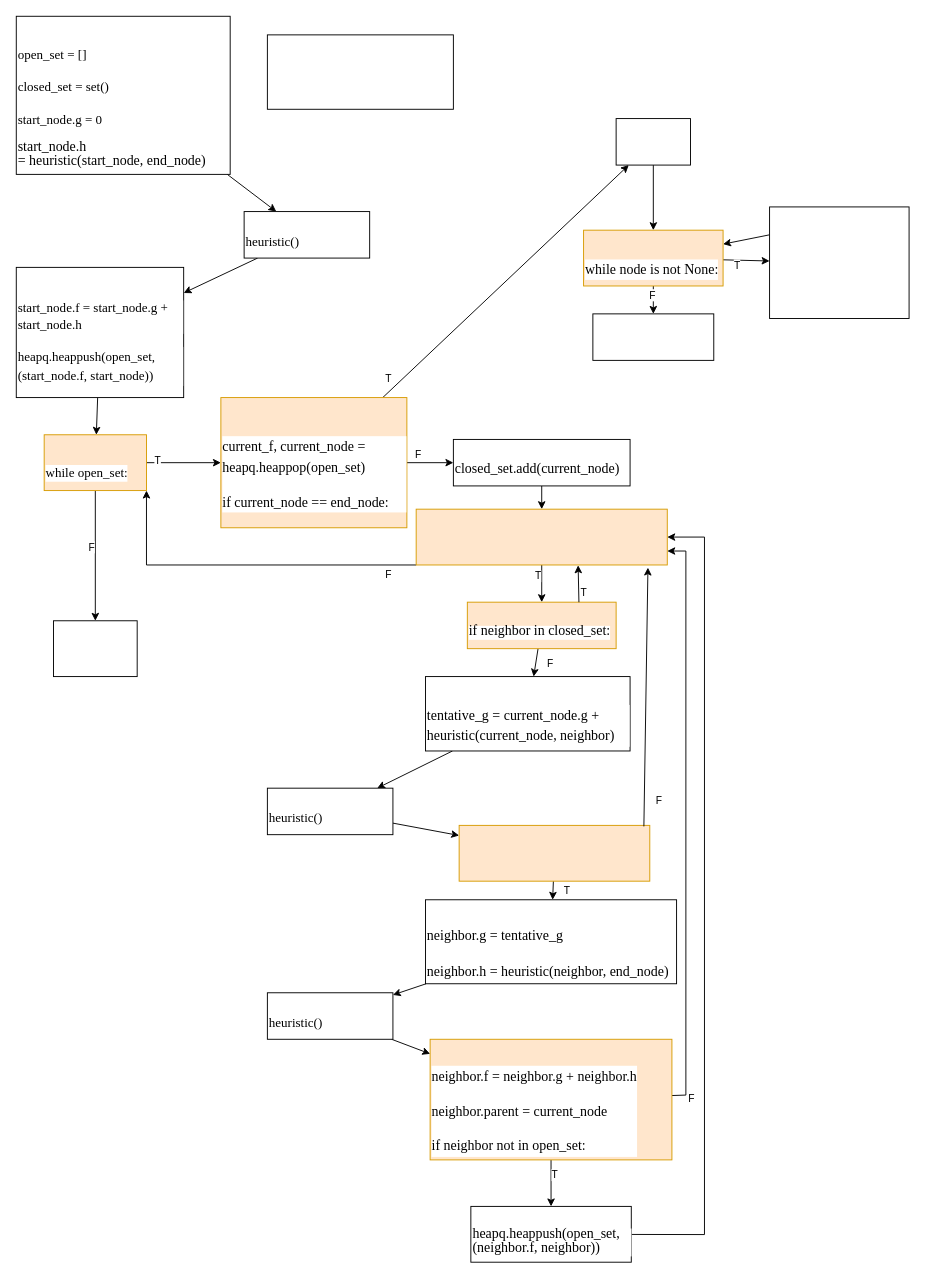
Some shapes in this 925 by 1279 pixel diagram are drawn without their labels. The box of each missing label's shape, as (x1, y1, x2, y2) in pixels:
for neighbor in graph.get(current_node, []):: (415, 508, 667, 565)
Func heuristic: return sqrt((a.x - b.x)**2 + (a.y - b.y)**2): (266, 34, 453, 109)
if tentative_g < neighbor.g:: (458, 824, 650, 881)
path = []: (615, 118, 691, 165)
path.append((node.x, node.y)) node = node.parent: (769, 206, 909, 319)
return None: (53, 620, 137, 677)
return path[::-1]: (592, 313, 714, 360)
